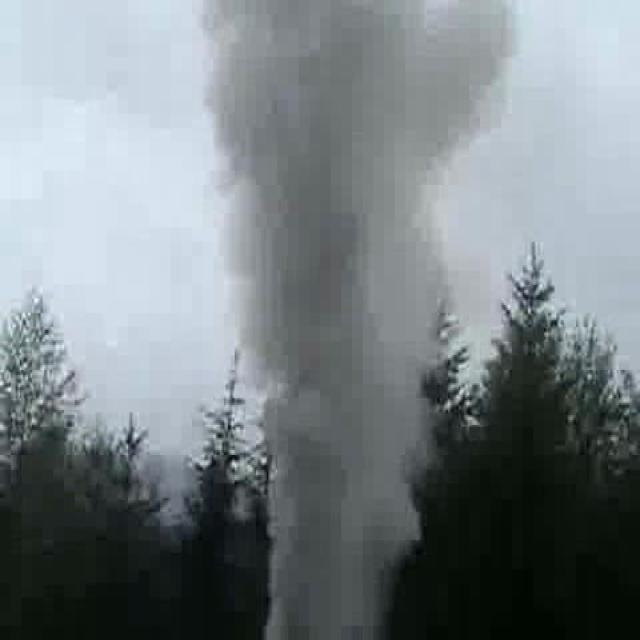Smoke: (268, 0, 417, 628)
